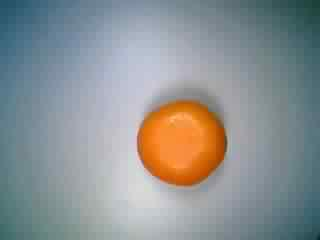orange: (134, 94, 229, 188)
